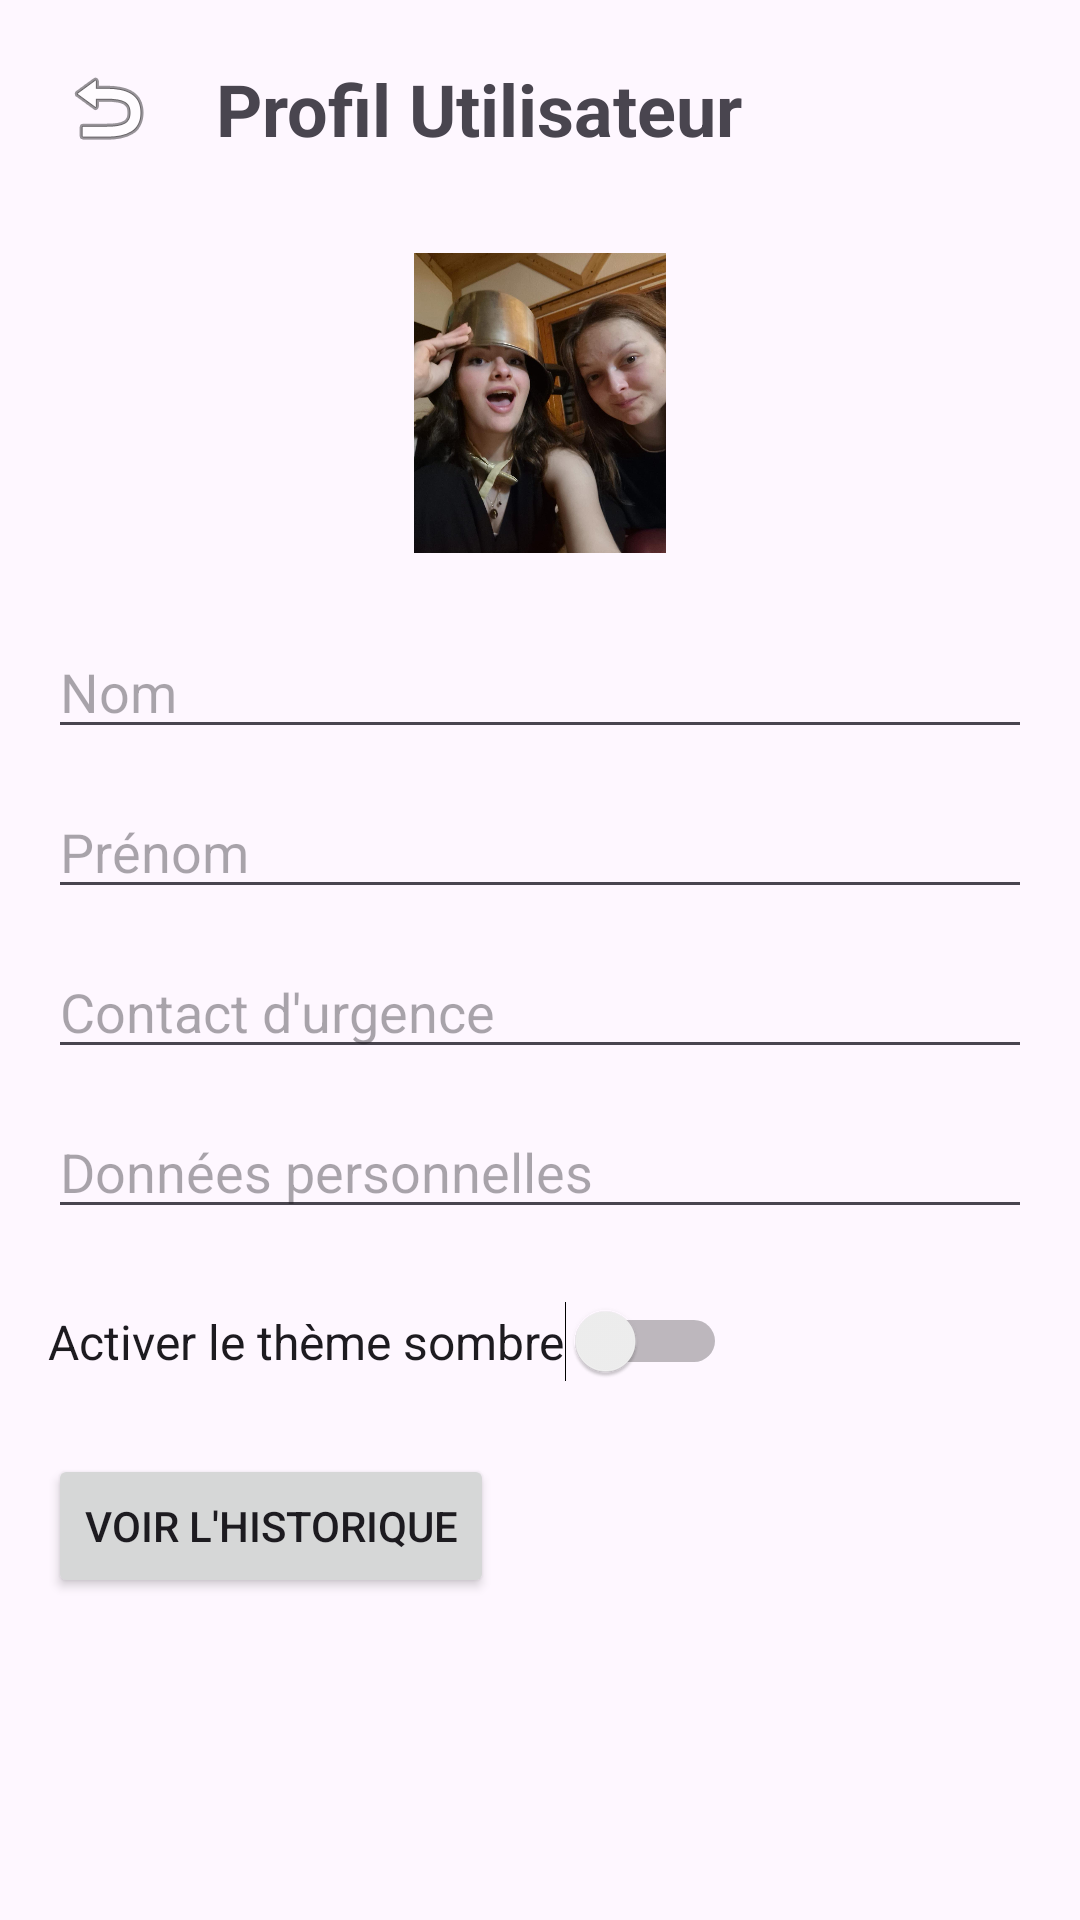

Locate icon controls on the screen. Image size 1080×1920, boxes as (x1, y1, x2, y2).
Photo de profil: (414, 253, 666, 553)
Retour: (75, 77, 144, 140)
